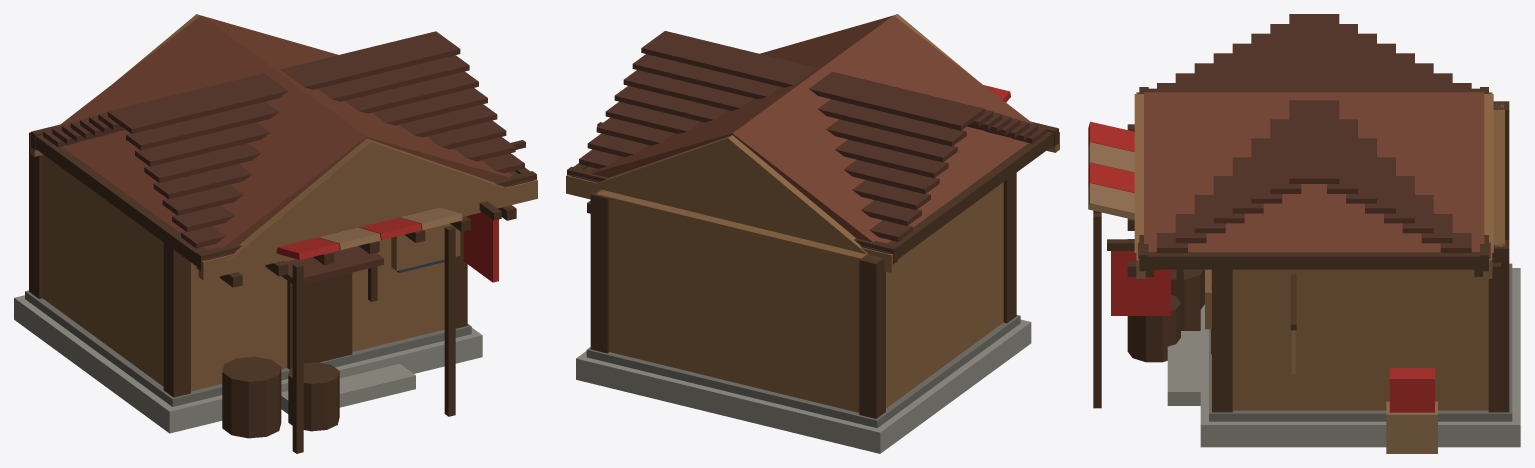
The model's file is tailor.glb.
3 renders of one model, left to right at view 1: azimuth 30°, elevation 25°; view 2: azimuth 150°, elevation 25°; view 3: azimuth 270°, elevation 25°, orthographic. The views are drawn at different scales.
Parts seen in each view (by area): view 1: tailor; view 2: tailor; view 3: tailor.
Part boxes in pixels (box(x1,y1,x2,y2)): tailor: box(14, 14, 537, 453); tailor: box(566, 14, 1059, 453); tailor: box(1088, 14, 1520, 453).
Bounding box in the file's own units: 4.6 × 3.03 × 4.19.
